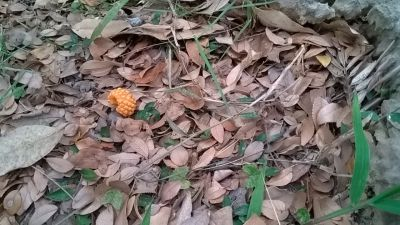eggs: (108, 87, 137, 118)
